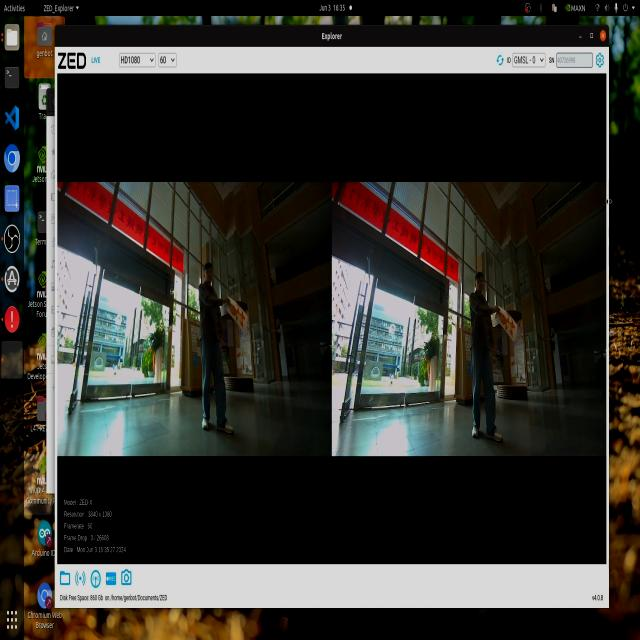red: (497, 306, 532, 352), (227, 296, 245, 332)
